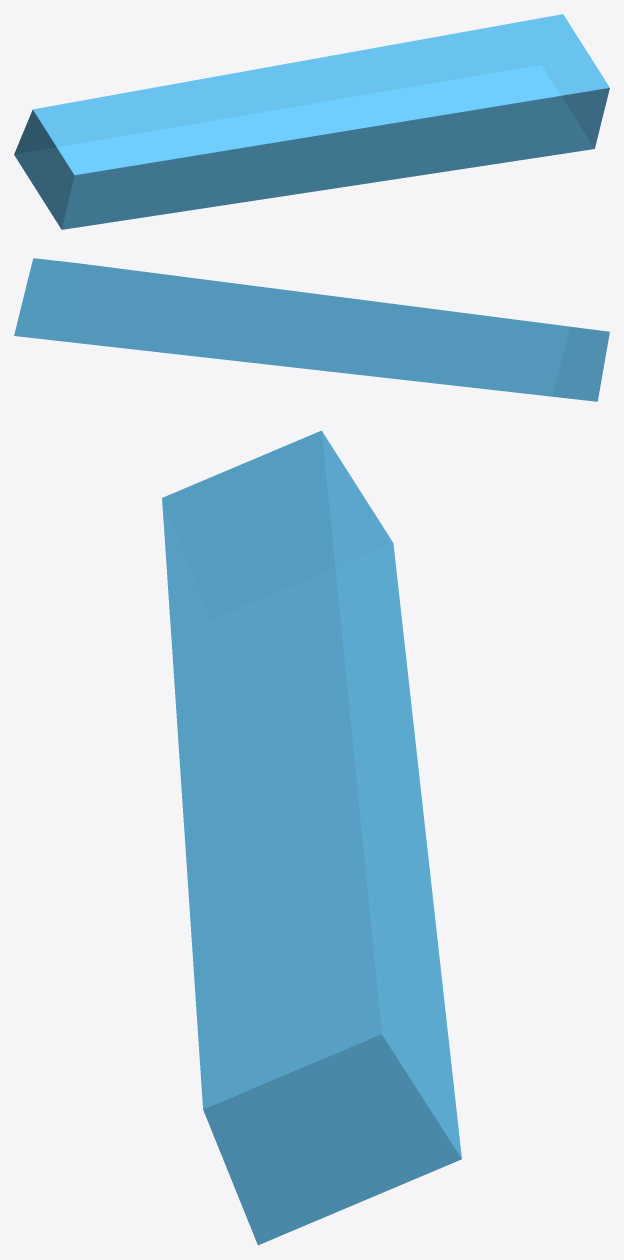
File: Event_420107950_HErechit_37.fbx
3 renders of one model, top to bottom at view 1: azimuth 30°, elevation 25°; view 2: azimuth 150°, elevation 25°; view 3: azimuth 270°, elevation 25°, orthographic. The views are drawn at different scales.
Visible parts, largest first — view 1: Model; view 2: Model; view 3: Model.
Part boxes in pixels (x1,y1,x2,y2): Model: (14,14,609,229); Model: (14,258,609,401); Model: (162,430,461,1245).
Bounding box in the file's own units: 1.21 × 0.3397 × 0.3014.
